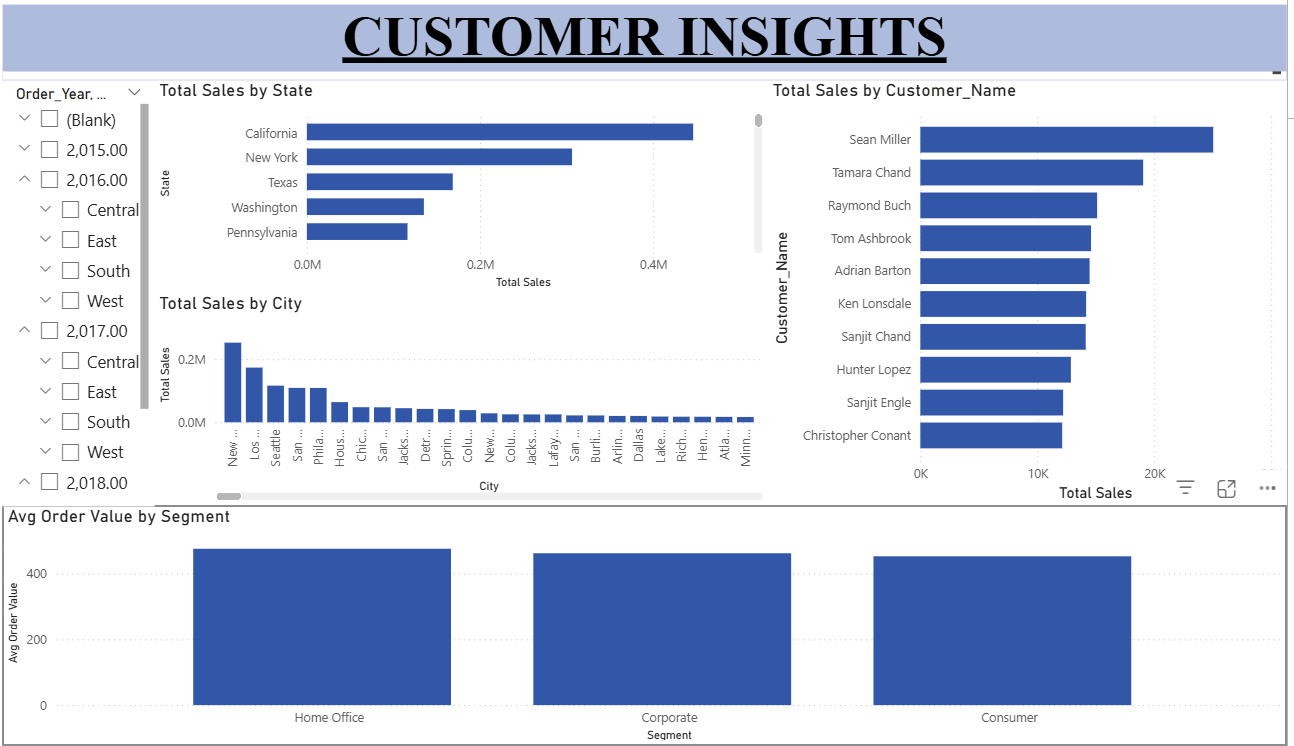

What the dashboard file says about the page in this screenshot:
{"tool":"powerbi","page":{"name":"Customer_insights","canvas":[1280,720],"ordinal":1},"visuals":[{"type":"clusteredBarChart","fields":{"Category":["sales_cleaned.Customer_Name"],"Y":["sales_cleaned.Total Sales"]},"box":[782.7,81.9,496.9,407.8],"z":0},{"type":"clusteredBarChart","fields":{"Category":["sales_cleaned.State"],"Y":["sales_cleaned.Total Sales"]},"box":[195.3,81.9,587.3,203.9],"z":1000},{"type":"clusteredColumnChart","fields":{"Category":["sales_cleaned.City"],"Y":["sales_cleaned.Total Sales"]},"box":[195.3,285.8,587.3,203.9],"z":2000},{"type":"clusteredColumnChart","fields":{"Category":["sales_cleaned.Segment"],"Y":["sales_cleaned.Avg Order Value"]},"box":[50.3,489.7,1229.3,229.8],"z":3000},{"type":"slicer","fields":{"Values":["sales_cleaned.Order_Year","sales_cleaned.Region","sales_cleaned.Segment"]},"box":[50.3,81.9,145,407.8],"z":4000},{"type":"textbox","title":"CUSTOMER INSIGHTS","box":[50.3,10.1,1229.3,71.8],"z":5000}]}

Visuals, with their boxes in screenshot pixels (x1, y1, x2, y2), scaled from the page's 1280x720 canvas onto the 1294x746 screenshot:
clusteredBarChart - sales_cleaned.Customer_Name x sales_cleaned.Total Sales: box=[791, 85, 1293, 507]
clusteredBarChart - sales_cleaned.State x sales_cleaned.Total Sales: box=[197, 85, 791, 296]
clusteredColumnChart - sales_cleaned.City x sales_cleaned.Total Sales: box=[197, 296, 791, 507]
clusteredColumnChart - sales_cleaned.Segment x sales_cleaned.Avg Order Value: box=[51, 507, 1293, 745]
slicer - sales_cleaned.Order_Year x sales_cleaned.Region: box=[51, 85, 197, 507]
"CUSTOMER INSIGHTS" textbox: box=[51, 10, 1293, 85]
